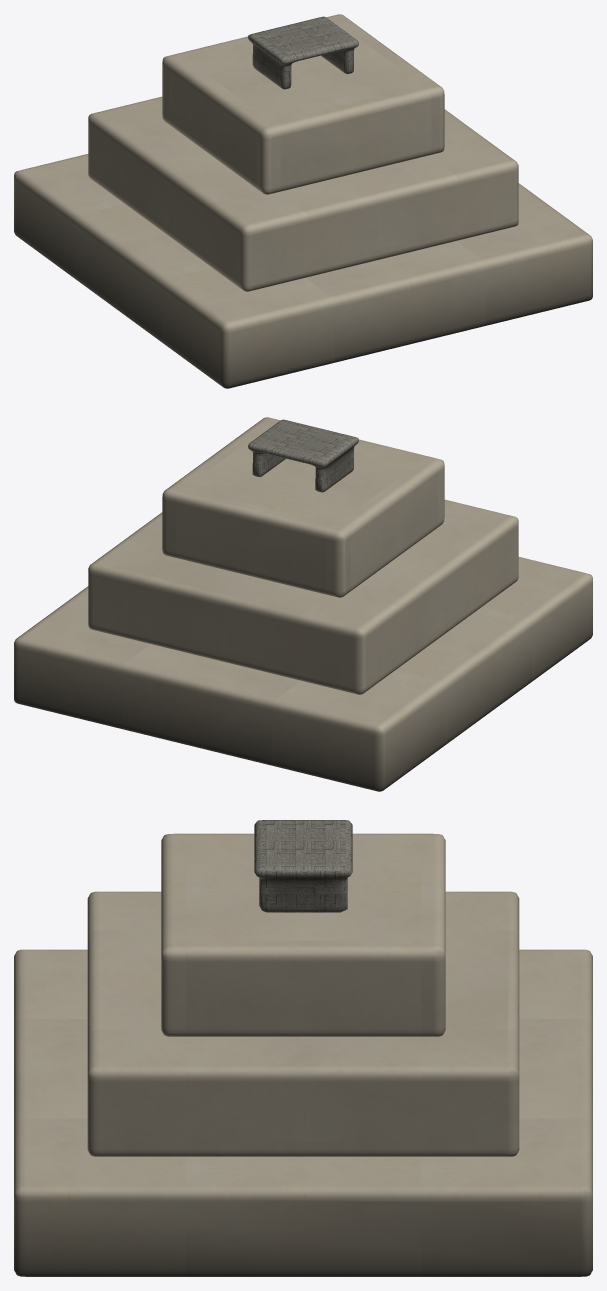
Rendered from fair_stand_high.glb.
3 views of the same model, one above another, from view 1: azimuth 30°, elevation 25°; view 2: azimuth 150°, elevation 25°; view 3: azimuth 270°, elevation 25° (orthographic). The views are drawn at different scales.
Visible parts, largest first — view 1: fair_stand_high_chalk, fair_stand_high_wood; view 2: fair_stand_high_chalk, fair_stand_high_wood; view 3: fair_stand_high_chalk, fair_stand_high_wood.
Boxes of the visible parts, x1,y1,x2,y2 form: fair_stand_high_chalk: [14, 14, 592, 388]; fair_stand_high_wood: [248, 16, 358, 89]; fair_stand_high_chalk: [14, 417, 592, 791]; fair_stand_high_wood: [248, 419, 358, 492]; fair_stand_high_chalk: [14, 833, 592, 1276]; fair_stand_high_wood: [254, 820, 352, 912].
Size of the model in its own units: 5.9 by 3.52 by 5.9.
2 materials, 2 textured.
